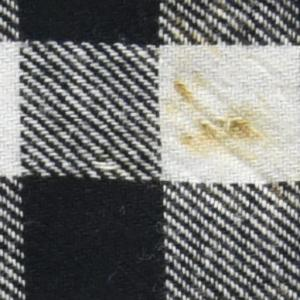Damage: (170, 83, 261, 147)
Oil Stain: (149, 1, 300, 201)
